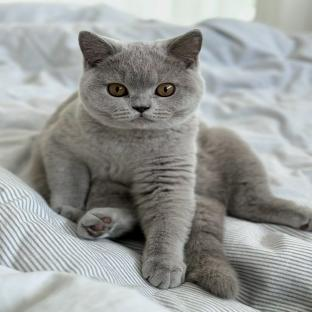Animal: (31, 29, 312, 298)
